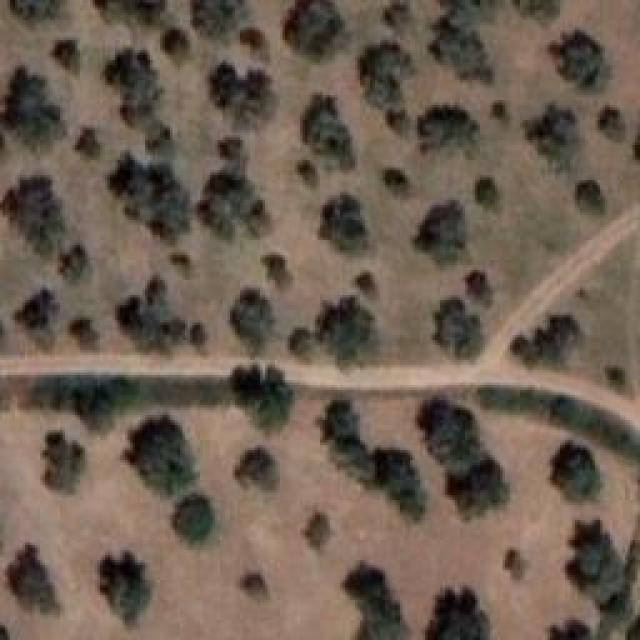Tree: (102, 160, 196, 244), (3, 65, 78, 162), (200, 158, 276, 250), (120, 423, 196, 514), (0, 173, 75, 259), (100, 58, 184, 133), (568, 523, 637, 612), (348, 28, 421, 108), (448, 445, 512, 535), (295, 90, 365, 171), (203, 58, 279, 131), (513, 308, 585, 385), (118, 283, 199, 351), (315, 401, 381, 484), (315, 297, 389, 367), (0, 537, 63, 619), (430, 13, 501, 80), (416, 394, 484, 462), (343, 570, 408, 640), (438, 290, 498, 365), (415, 105, 481, 173), (83, 550, 149, 616), (548, 18, 613, 85), (283, 0, 351, 64), (33, 428, 97, 496), (227, 277, 286, 347), (365, 450, 426, 516), (235, 366, 294, 434), (310, 193, 369, 258), (170, 490, 230, 550), (423, 208, 478, 273), (530, 103, 579, 171), (15, 278, 66, 343), (548, 433, 603, 493), (425, 587, 485, 640), (75, 373, 125, 436), (237, 440, 284, 493), (227, 563, 274, 616), (12, 0, 83, 32), (198, 0, 252, 42), (293, 508, 336, 557), (457, 173, 502, 217), (248, 240, 298, 279), (65, 310, 105, 358), (238, 23, 278, 70), (57, 243, 104, 282), (275, 330, 319, 370), (570, 175, 611, 217), (545, 610, 600, 640), (50, 33, 89, 75), (70, 118, 108, 161), (155, 23, 191, 65), (595, 100, 631, 142), (488, 93, 522, 137), (507, 0, 566, 25), (293, 160, 328, 201), (378, 158, 415, 195), (350, 268, 381, 310), (460, 263, 495, 298), (503, 545, 538, 580), (214, 133, 244, 170), (440, 0, 490, 21), (385, 100, 413, 136), (190, 315, 217, 348), (170, 245, 198, 275), (385, 0, 412, 30)
